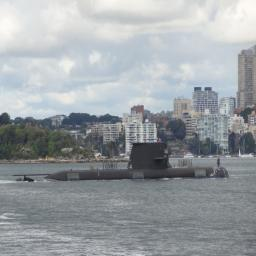submarine: (43, 144, 234, 180)
